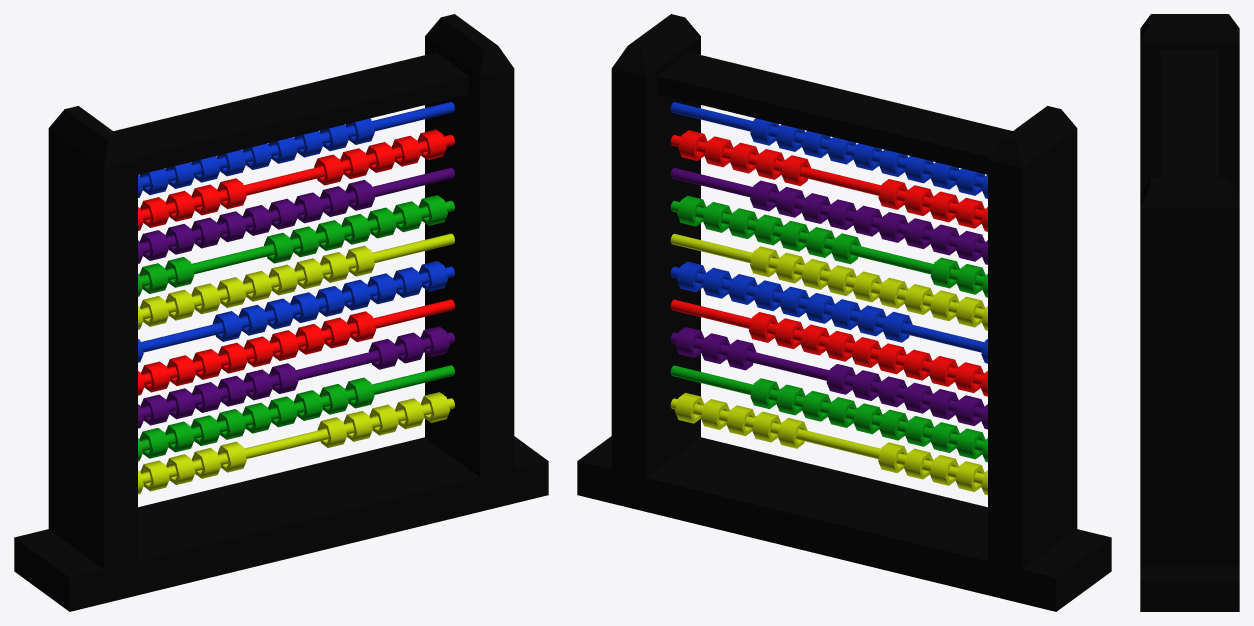
File: SM_Abacus.fbx
3 views of the same model, side by side, from view 1: azimuth 30°, elevation 25°; view 2: azimuth 150°, elevation 25°; view 3: azimuth 270°, elevation 25° (orthographic). The views are drawn at different scales.
Parts seen in each view (by area): view 1: Abacus; view 2: Abacus; view 3: Abacus.
Boxes of the visible parts, left/top/right/bottom form: Abacus: left=14, top=14, right=548, bottom=611; Abacus: left=577, top=14, right=1111, bottom=611; Abacus: left=1140, top=14, right=1239, bottom=611.
Bounding box in the file's own units: 150 × 136 × 30.
